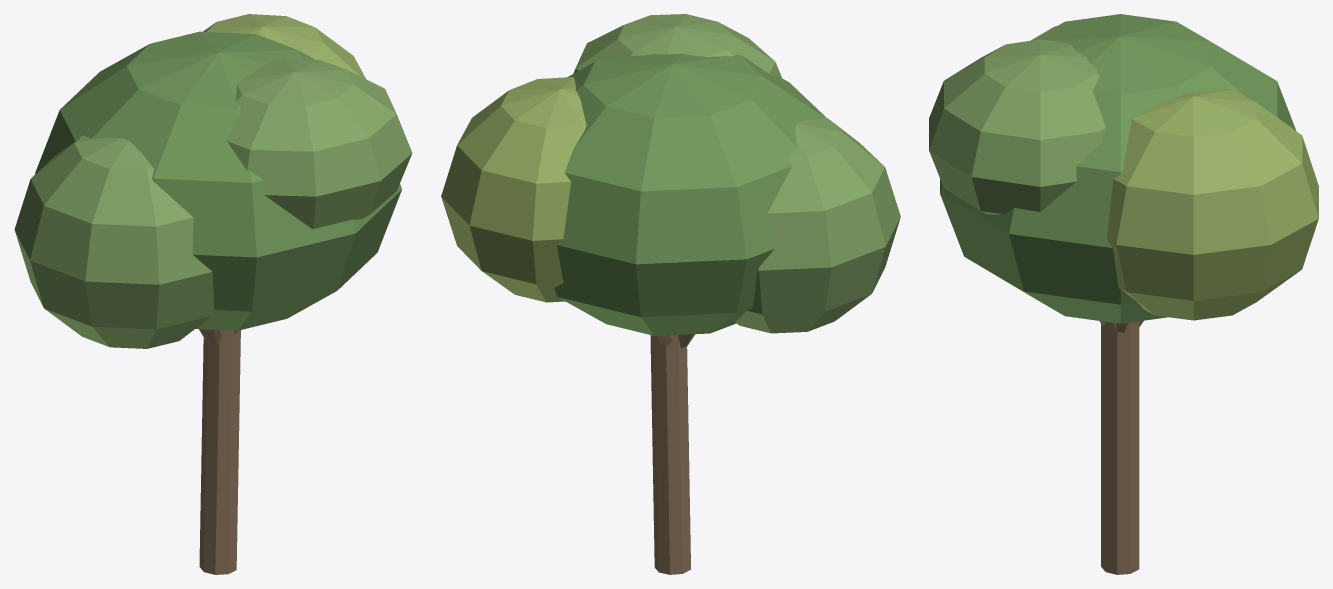
File: tree-8.glb
3 renders of one model, left to right at view 1: azimuth 30°, elevation 25°; view 2: azimuth 150°, elevation 25°; view 3: azimuth 270°, elevation 25°, orthographic. The views are drawn at different scales.
Parts seen in each view (by area): view 1: tree-8; view 2: tree-8; view 3: tree-8.
Boxes of the visible parts, left/top/right/bottom form: tree-8: left=14, top=14, right=412, bottom=574; tree-8: left=441, top=14, right=900, bottom=574; tree-8: left=929, top=14, right=1318, bottom=574.
Size of the model in its own units: 6.3 by 8.01 by 5.33.
